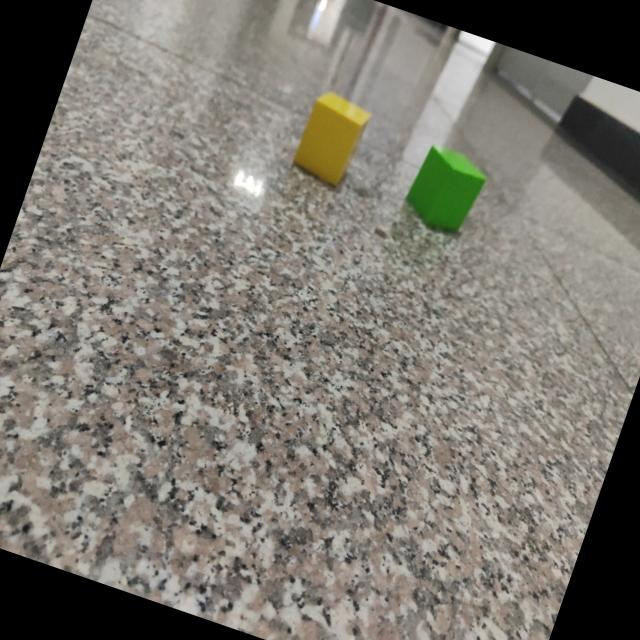green: (405, 147, 485, 237)
yellow: (292, 93, 370, 189)
